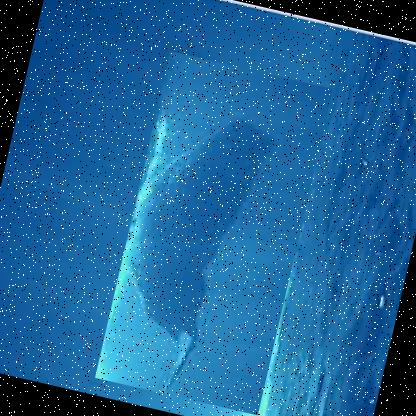sperm_whale: (93, 50, 332, 415)
